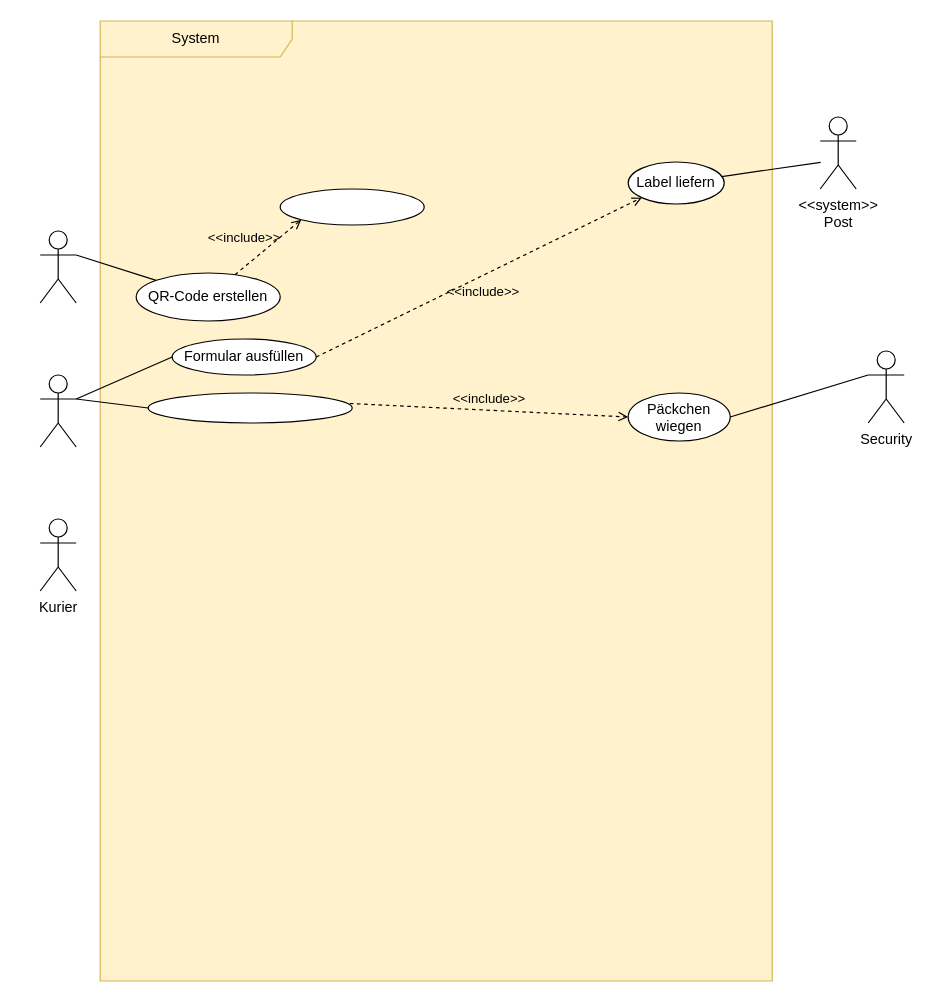
Image size: 932x1002. Some labels were removed from this diagram. Each missing label, with the centre of its shape:
"Back-Office" goes at point 57,266.
"Kunde" goes at point 57,410.
"Päckchen bekleben" goes at point 351,206.
"Päckchen füllen" goes at point 249,407.
